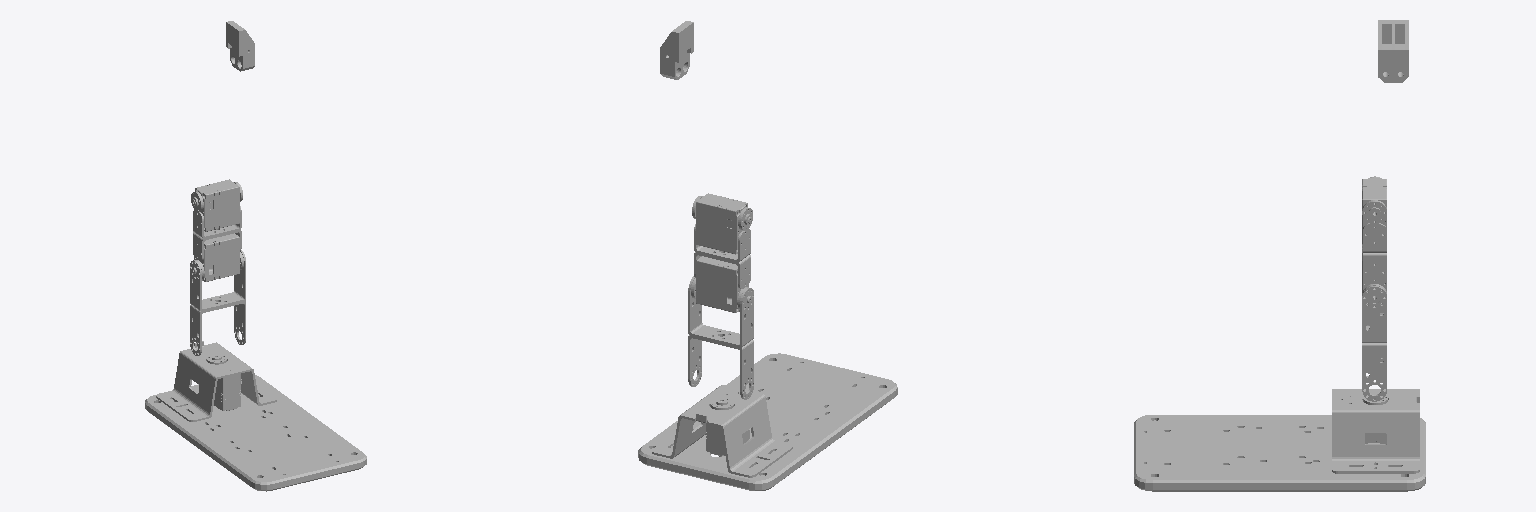
URDF robot description (robo_description):
<?xml version="1.0" encoding="utf-8"?>
<!-- This URDF was automatically created by SolidWorks to URDF Exporter! Originally created by [author] ([email redacted]) 
     Commit Version: 1.6.0-4-g7f85cfe  Build Version: 1.6.7995.38578
     For more information, please see http://wiki.ros.org/sw_urdf_exporter -->
<robot
  name="robo_description">
  <link
    name="base_link">
    <visual>
      <origin
        xyz="0 0 0"
        rpy="0 0 0" />
      <geometry>
        <mesh
          filename="package://robo_description/meshes/visual/base_link.STL" />
      </geometry>
      <material
        name="">
        <color
          rgba="0.75294 0.75294 0.75294 1" />
      </material>
    </visual>
    <collision>
      <origin
        xyz="0 0 0"
        rpy="0 0 0" />
      <geometry>
        <mesh
          filename="package://robo_description/meshes/visual/base_link.STL" />
      </geometry>
    </collision>
  </link>
  <link
    name="robot_link1">
    <visual>
      <origin
        xyz="0 0 0"
        rpy="0 0 0" />
      <geometry>
        <mesh
          filename="package://robo_description/meshes/visual/robot_link1.STL" />
      </geometry>
      <material
        name="">
        <color
          rgba="0.75294 0.75294 0.75294 1" />
      </material>
    </visual>
    <collision>
      <origin
        xyz="0 0 0"
        rpy="0 0 0" />
      <geometry>
        <mesh
          filename="package://robo_description/meshes/visual/robot_link1.STL" />
      </geometry>
    </collision>
  </link>
  <joint
    name="robot_joint1"
    type="revolute">
    <origin
      xyz="-4.1073E-05 0.080098 0.057"
      rpy="0 0 0" />
    <parent
      link="base_link" />
    <child
      link="robot_link1" />
    <axis
      xyz="0 0 -1" />
    <limit
      lower="-2"
      upper="2"
      effort="30"
      velocity="50" />
  </joint>
  <link
    name="robot_link2">
    <visual>
      <origin
        xyz="0 0 0"
        rpy="0 0 0" />
      <geometry>
        <mesh
          filename="package://robo_description/meshes/visual/robot_link2.STL" />
      </geometry>
      <material
        name="">
        <color
          rgba="0.75294 0.75294 0.75294 1" />
      </material>
    </visual>
    <collision>
      <origin
        xyz="0 0 0"
        rpy="0 0 0" />
      <geometry>
        <mesh
          filename="package://robo_description/meshes/visual/robot_link2.STL" />
      </geometry>
    </collision>
  </link>
  <joint
    name="robot_joint2"
    type="revolute">
    <origin
      xyz="-0.0258 -0.00081639 0.015894"
      rpy="-1.5708 0 1.5708" />
    <parent
      link="robot_link1" />
    <child
      link="robot_link2" />
    <axis
      xyz="0 0 1" />
    <limit
      lower="-0.9"
      upper="1.5"
      effort="30"
      velocity="50.000001" />
  </joint>
  <link
    name="robot_link3">
    <visual>
      <origin
        xyz="0 0 0"
        rpy="0 0 0" />
      <geometry>
        <mesh
          filename="package://robo_description/meshes/visual/robot_link3.STL" />
      </geometry>
      <material
        name="">
        <color
          rgba="0.75294 0.75294 0.75294 1" />
      </material>
    </visual>
    <collision>
      <origin
        xyz="0 0 0"
        rpy="0 0 0" />
      <geometry>
        <mesh
          filename="package://robo_description/meshes/visual/robot_link3.STL" />
      </geometry>
    </collision>
  </link>
  <joint
    name="robot_joint3"
    type="revolute">
    <origin
      xyz="0 -0.081399 0.001"
      rpy="0 0 0" />
    <parent
      link="robot_link2" />
    <child
      link="robot_link3" />
    <axis
      xyz="0 0 1" />
    <limit
      lower="-2.1"
      upper="2.1"
      effort="30"
      velocity="50.000001" />
  </joint>
  <link
    name="robot_link4">
    <visual>
      <origin
        xyz="0 0 0"
        rpy="0 0 0" />
      <geometry>
        <mesh
          filename="package://robo_description/meshes/visual/robot_link4.STL" />
      </geometry>
      <material
        name="">
        <color
          rgba="0.75294 0.75294 0.75294 1" />
      </material>
    </visual>
    <collision>
      <origin
        xyz="0 0 0"
        rpy="0 0 0" />
      <geometry>
        <mesh
          filename="package://robo_description/meshes/visual/robot_link4.STL" />
      </geometry>
    </collision>
  </link>
  <joint
    name="robot_joint4"
    type="revolute">
    <origin
      xyz="0 -0.07335 0"
      rpy="0 0 0" />
    <parent
      link="robot_link3" />
    <child
      link="robot_link4" />
    <axis
      xyz="0 0 1" />
    <limit
      lower="-2"
      upper="1.5"
      effort="30"
      velocity="50.000001" />
  </joint>
  <link
    name="hand_link">
    <visual>
      <origin
        xyz="0 0 0"
        rpy="0 0 0" />
      <geometry>
        <mesh
          filename="package://robo_description/meshes/visual/hand_link.STL" />
      </geometry>
      <material
        name="">
        <color
          rgba="0.75294 0.75294 0.75294 1" />
      </material>
    </visual>
    <collision>
      <origin
        xyz="0 0 0"
        rpy="0 0 0" />
      <geometry>
        <mesh
          filename="package://robo_description/meshes/visual/hand_link.STL" />
      </geometry>
    </collision>
  </link>
  <joint
    name="hand_joint"
    type="revolute">
    <origin
      xyz="0.001325 -0.16273 -0.02655"
      rpy="1.5708 1.5708 0" />
    <parent
      link="robot_link4" />
    <child
      link="hand_link" />
    <axis
      xyz="0 0 -1" />
    <limit
      lower="-3.1"
      upper="3.1"
      effort="30"
      velocity="50" />
  </joint>
  <link
    name="left_link">
    <visual>
      <origin
        xyz="0 0 0"
        rpy="0 0 0" />
      <geometry>
        <mesh
          filename="package://robo_description/meshes/visual/left_link.STL" />
      </geometry>
      <material
        name="">
        <color
          rgba="0.75294 0.75294 0.75294 1" />
      </material>
    </visual>
    <collision>
      <origin
        xyz="0 0 0"
        rpy="0 0 0" />
      <geometry>
        <mesh
          filename="package://robo_description/meshes/visual/left_link.STL" />
      </geometry>
    </collision>
  </link>
  <joint
    name="grippers_joint"
    type="prismatic">
    <origin
      xyz="0.026464 0.013587 -0.013325"
      rpy="-1.5708 0 -1.5708" />
    <parent
      link="hand_link" />
    <child
      link="left_link" />
    <axis
      xyz="0 0 1" />
    <limit
      lower="-0.027"
      upper="0"
      effort="30"
      velocity="50" />
  </joint>
  <link
    name="right_link">
    <visual>
      <origin
        xyz="0 0 0"
        rpy="0 0 0" />
      <geometry>
        <mesh
          filename="package://robo_description/meshes/visual/right_link.STL" />
      </geometry>
      <material
        name="">
        <color
          rgba="0.75294 0.75294 0.75294 1" />
      </material>
    </visual>
    <collision>
      <origin
        xyz="0 0 0"
        rpy="0 0 0" />
      <geometry>
        <mesh
          filename="package://robo_description/meshes/visual/right_link.STL" />
      </geometry>
    </collision>
  </link>
  <joint
    name="right_joint"
    type="prismatic">
    <origin
      xyz="-0.026464 0.013587 -0.013325"
      rpy="-1.5708 0 1.5708" />
    <parent
      link="hand_link" />
    <child
      link="right_link" />
    <axis
      xyz="0 0 1" />
    <limit
      lower="-3.1"
      upper="3.1"
      effort="30"
      velocity="50.000001" />
    <mimic joint="grippers_joint" />
  </joint>
</robot>

--- Render facts (derived) ---
Views: 3 orthographic renders of the robot side by side, from view 1: azimuth 30°, elevation 25°; view 2: azimuth 150°, elevation 25°; view 3: azimuth 270°, elevation 25°.
Robot: robo_description — 8 links, 7 joints (5 revolute, 2 prismatic); root link base_link; default pose: all joints at 0.
Links seen in each view (by area): view 1: base_link, robot_link3, robot_link2, left_link; view 2: base_link, robot_link3, robot_link2, left_link; view 3: base_link, robot_link3, robot_link2, left_link.
Boxes of the visible links, left/top/right/bottom form: base_link: left=145, top=341, right=366, bottom=491; robot_link3: left=191, top=179, right=242, bottom=281; robot_link2: left=190, top=250, right=245, bottom=355; left_link: left=226, top=21, right=254, bottom=71; base_link: left=638, top=353, right=897, bottom=490; robot_link3: left=692, top=193, right=752, bottom=312; robot_link2: left=688, top=276, right=753, bottom=399; left_link: left=660, top=21, right=693, bottom=79; base_link: left=1134, top=389, right=1425, bottom=491; robot_link3: left=1362, top=176, right=1386, bottom=298; robot_link2: left=1362, top=284, right=1386, bottom=401; left_link: left=1378, top=20, right=1408, bottom=82.
Size in the robot's own frame: 0.1276 by 0.2335 by 0.3983 metres.
Meshes: 8 distinct files referenced, 4 mesh visuals loaded (4 binary STL); not drawn: 4 (file found but could not be loaded).